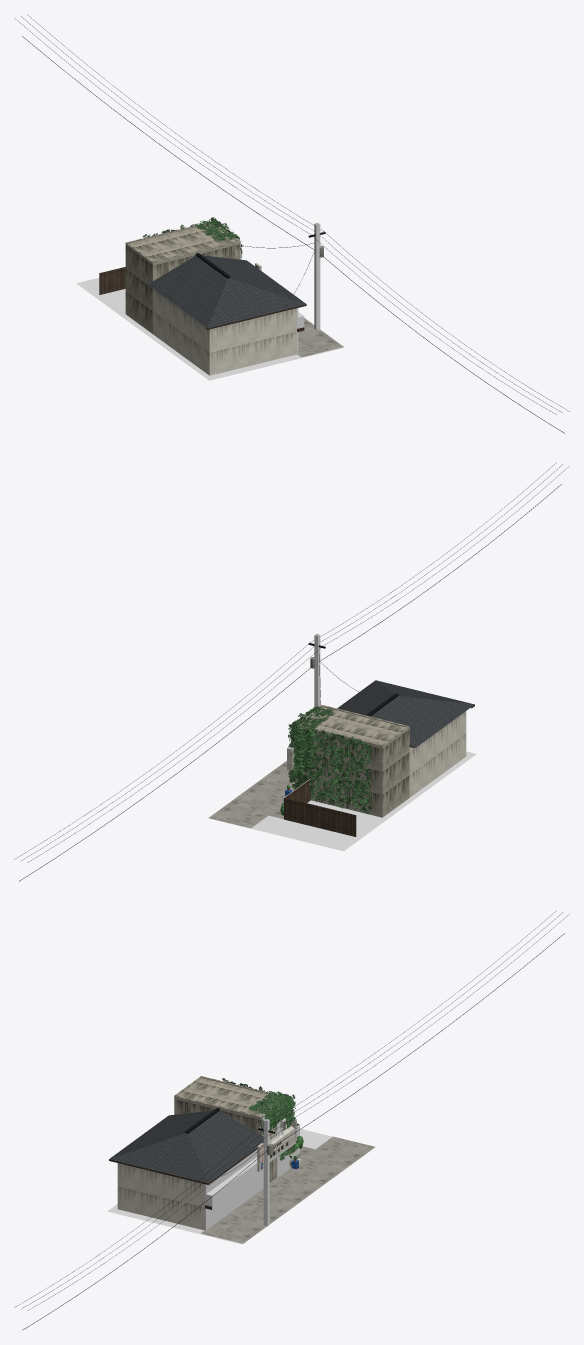
Rendered from tofushop.glb.
3 renders of one model, top to bottom at view 1: azimuth 30°, elevation 25°; view 2: azimuth 150°, elevation 25°; view 3: azimuth 330°, elevation 25°, orthographic.
Visible parts, largest first — view 1: Shop, Massing, CLEAR_tofushop_clear, COL_pole; view 2: Shop, Massing, CLEAR_tofushop_clear; view 3: Shop, Massing, COL_house, COL_balcony, CLEAR_tofushop_clear, COL_pole.
Part boxes in pixels (x1,y1,x2,y2): Shop: (15,14,569,433); Massing: (125,223,305,375); CLEAR_tofushop_clear: (76,278,344,380); COL_pole: (314,223,320,329); Shop: (14,463,568,881); Massing: (295,680,474,817); CLEAR_tofushop_clear: (209,751,476,851); Shop: (14,911,567,1330); Massing: (110,1078,295,1183); COL_house: (205,1149,262,1230); COL_balcony: (205,1157,263,1209); CLEAR_tofushop_clear: (107,1129,375,1244); COL_pole: (263,1119,269,1226).
Size of the model in its own units: 13 by 9.4 by 86.
Materials: 32 (18 with a texture image).
